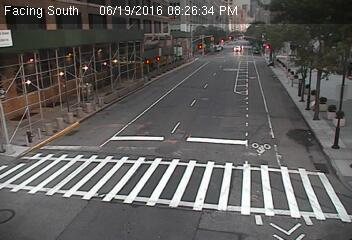neg: (282, 181, 310, 218), (257, 38, 283, 73), (143, 168, 169, 203), (295, 118, 321, 153), (190, 173, 215, 208), (62, 76, 87, 109), (249, 141, 273, 173), (43, 106, 66, 137), (108, 64, 130, 94), (188, 54, 210, 83), (274, 86, 294, 113), (208, 120, 227, 146), (137, 118, 156, 144), (222, 49, 240, 73), (152, 58, 169, 82), (79, 163, 96, 186), (35, 146, 51, 168), (303, 87, 319, 108)
